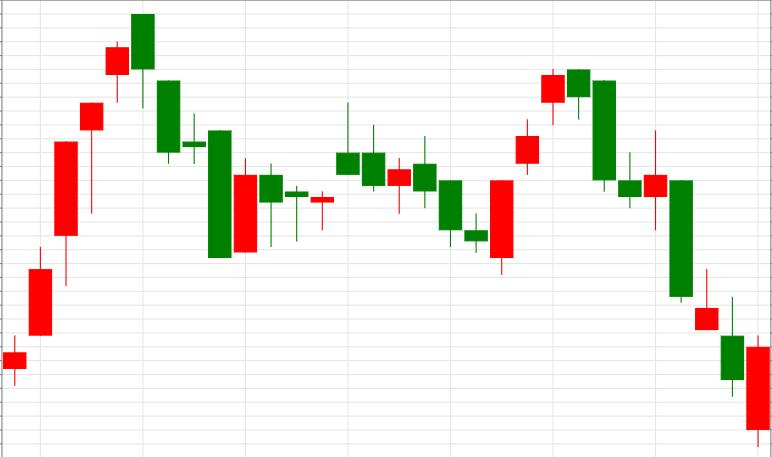bullish_engulfing_rise: (336, 102, 513, 275)
hanging_man_fall: (3, 102, 104, 386)
inverse_hammer_rise: (568, 69, 719, 331)
